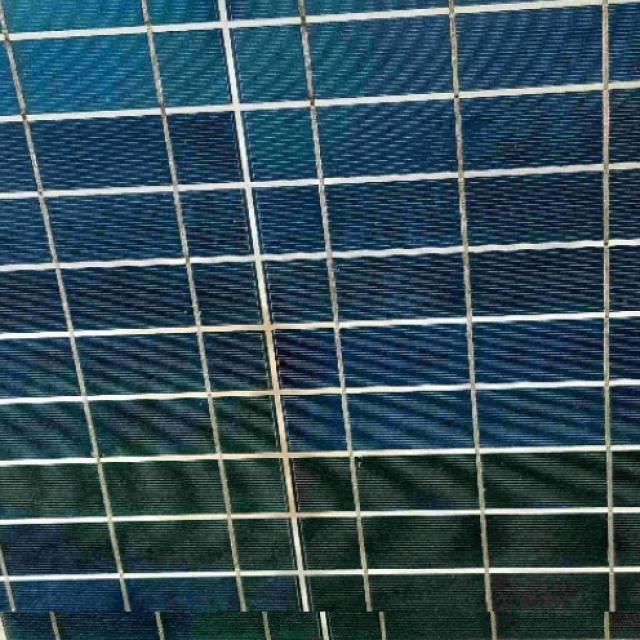Clean: (0, 0, 640, 612)
